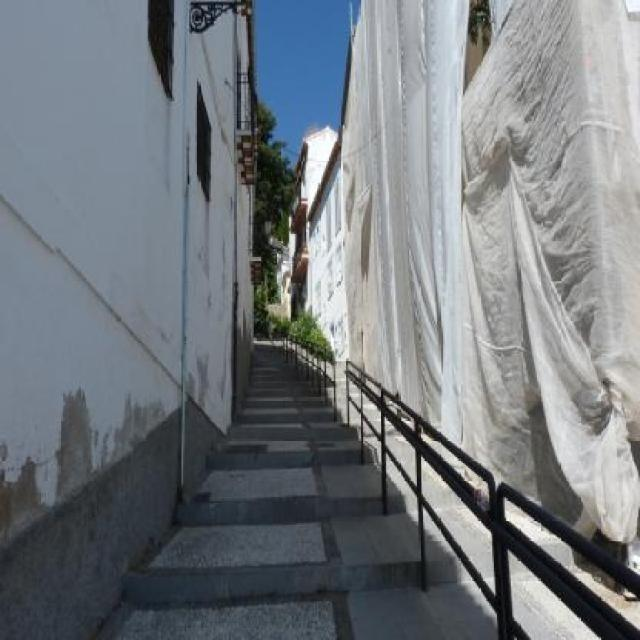stair: (99, 336, 626, 640)
